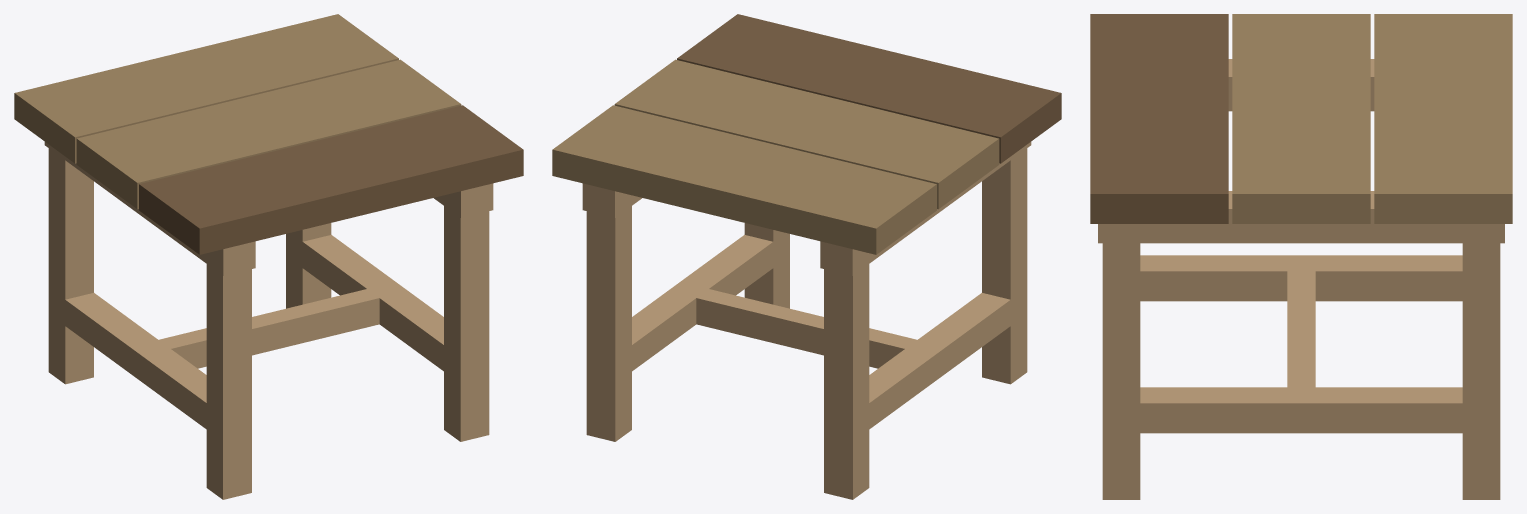
The model's file is TW_TABLE_SQUARE_A_LOD0.glb.
3 renders of one model, left to right at view 1: azimuth 30°, elevation 25°; view 2: azimuth 150°, elevation 25°; view 3: azimuth 270°, elevation 25°, orthographic. The views are drawn at different scales.
Visible parts, largest first — view 1: TW_TABLE_SQUARE_A_LOD0; view 2: TW_TABLE_SQUARE_A_LOD0; view 3: TW_TABLE_SQUARE_A_LOD0.
Part boxes in pixels (x1,y1,x2,y2): TW_TABLE_SQUARE_A_LOD0: [14, 14, 523, 499]; TW_TABLE_SQUARE_A_LOD0: [552, 14, 1061, 499]; TW_TABLE_SQUARE_A_LOD0: [1090, 14, 1512, 499].
Size of the model in its own units: 0.9 by 0.75 by 0.892.
1 material, 1 textured.
